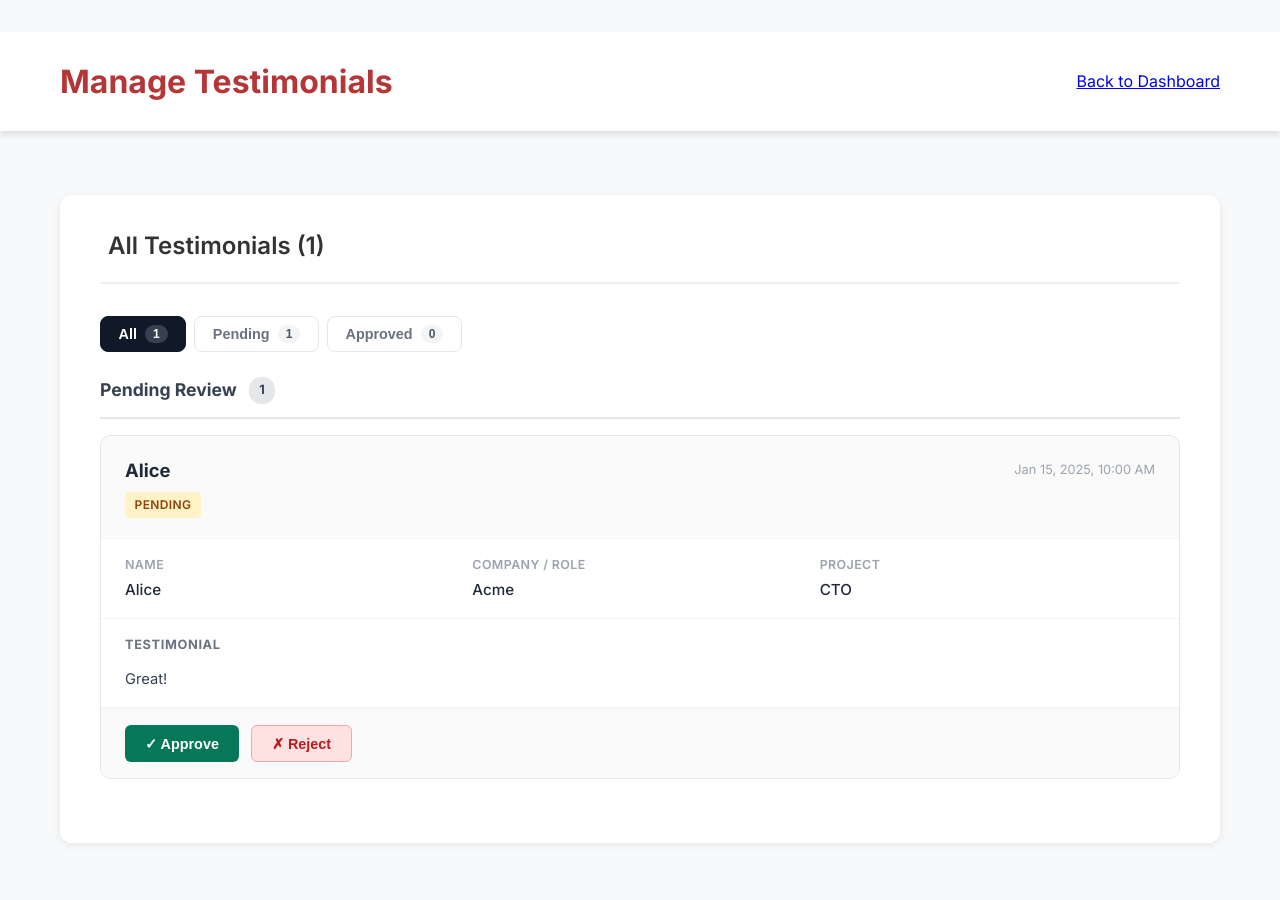
Test: AdminTestimonials › shows no approved message when filtering approved with none
Expected: the heading "All Testimonials (1)" is shown, [108, 227, 325, 266]
Click the button with class "status-filter-approved". click: (394, 334)
box: [327, 316, 462, 352]
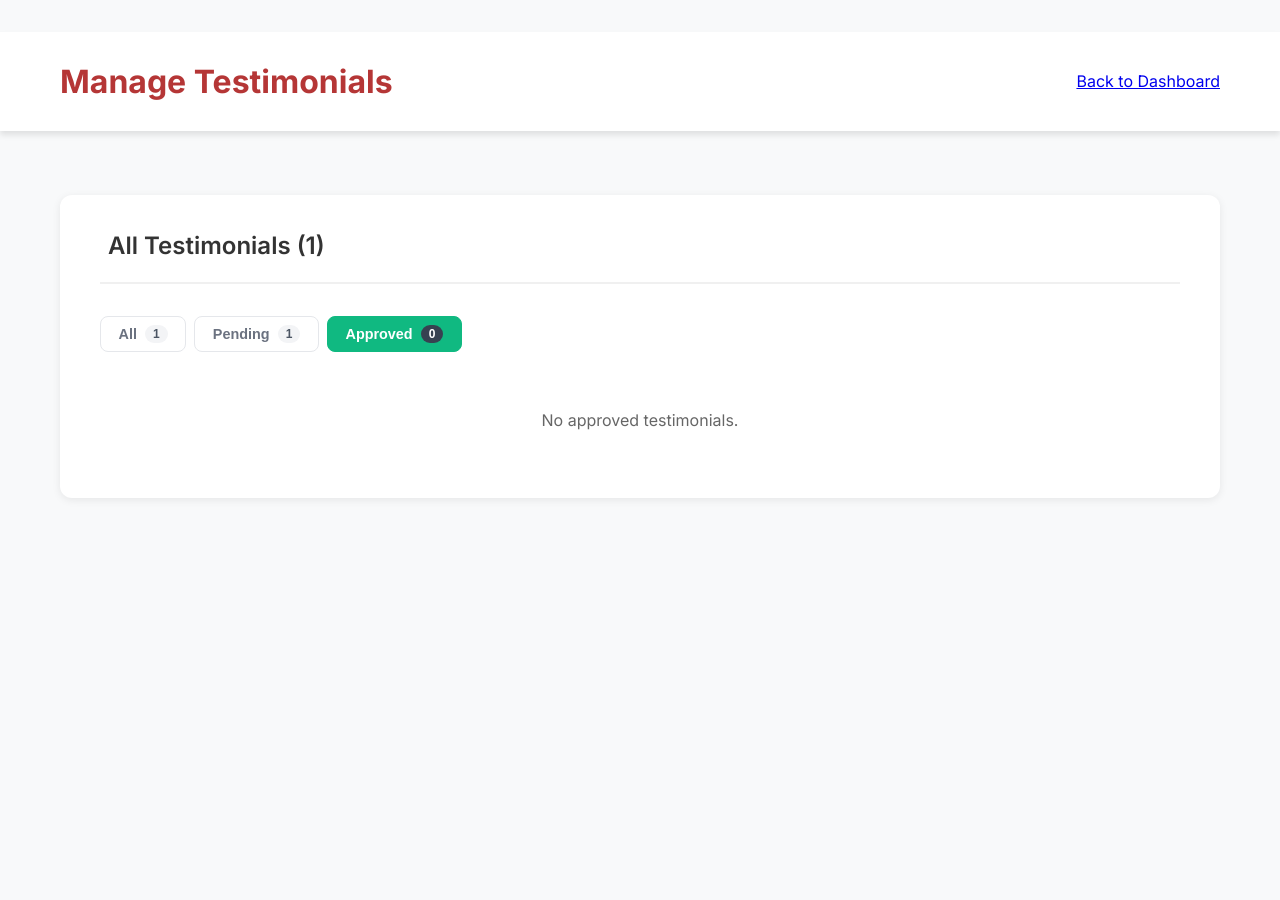
Result: the text "No approved testimonials." is shown at [542, 410, 738, 430]
